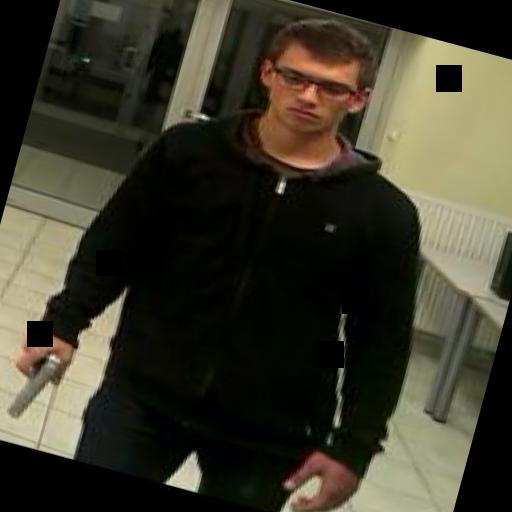Handgun: (0, 330, 77, 427)
